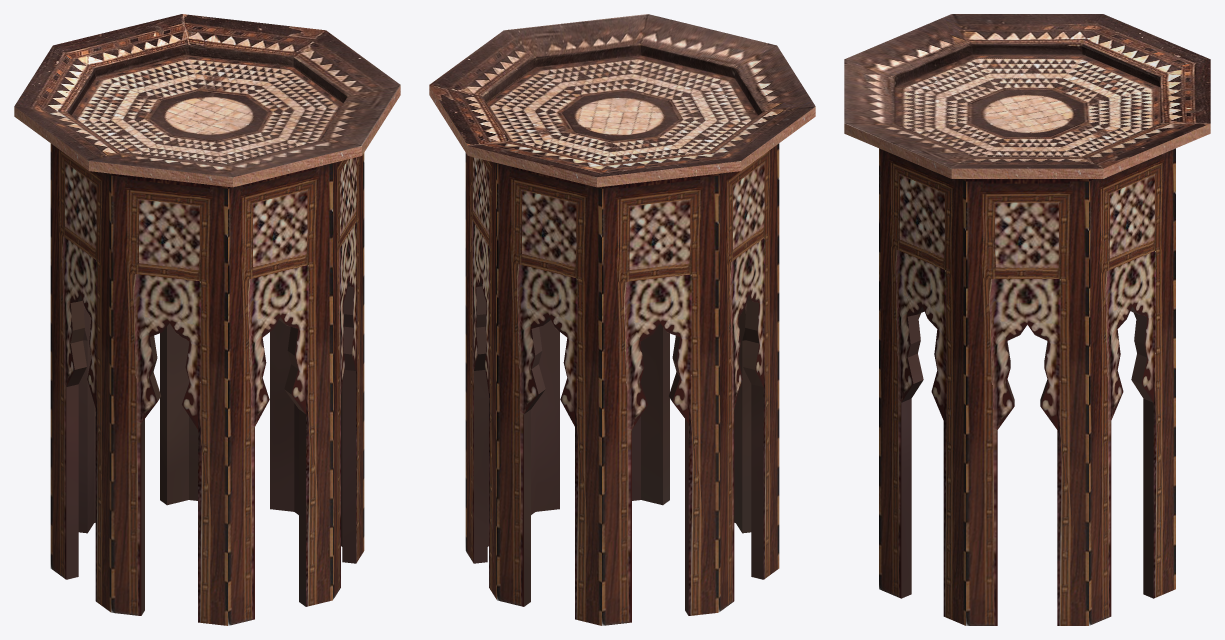
The model's file is CoffeeTable1A.fbx.
The picture shows the model from 3 angles, left to right: view 1: azimuth 30°, elevation 25°; view 2: azimuth 150°, elevation 25°; view 3: azimuth 270°, elevation 25°; orthographic projection.
Visible parts, largest first — view 1: CoffeeTable1A; view 2: CoffeeTable1A; view 3: CoffeeTable1A.
Part boxes in pixels (box(x1,y1,x2,y2)): CoffeeTable1A: box(14, 14, 400, 625); CoffeeTable1A: box(429, 14, 815, 625); CoffeeTable1A: box(844, 14, 1210, 625).
Bounding box in the file's own units: 51.14 × 72.73 × 51.14.
